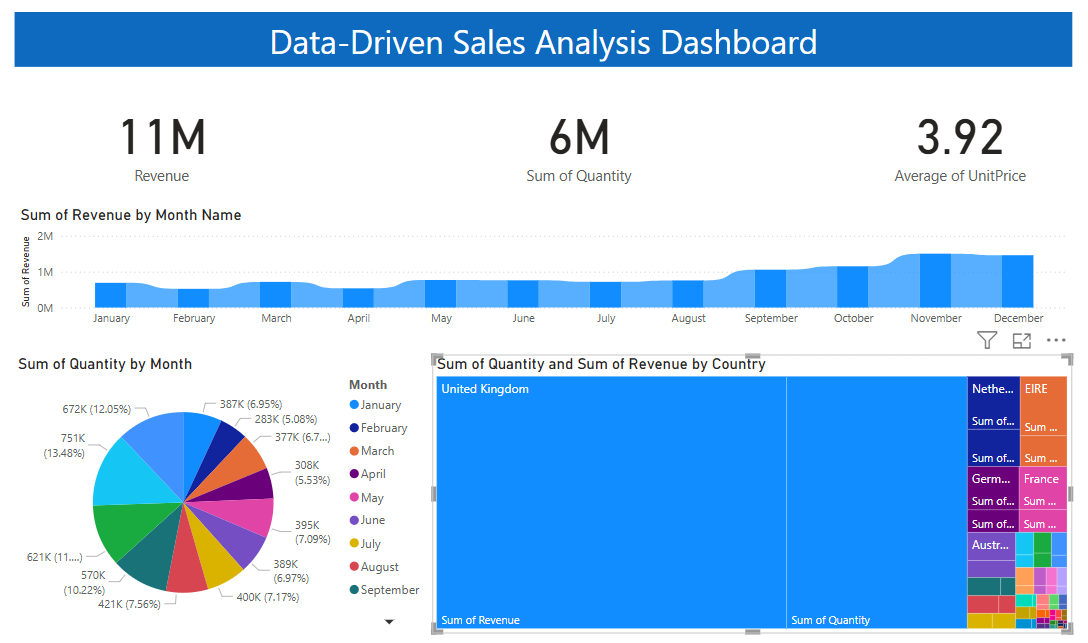

The dashboard page shown, as its layout file describes it:
{"tool":"powerbi","page":{"name":"Page 1","canvas":[1280,720],"ordinal":0},"visuals":[{"type":"shape","box":[59,22,1160.9,60.4],"z":0},{"type":"card","fields":{"Values":["Sum(cleaned_data.Revenue)"]},"box":[59,105.7,322.5,113.9],"z":1000},{"type":"card","fields":{"Values":["Sum(cleaned_data.Quantity)"]},"box":[517.3,105.7,322.5,113.9],"z":2000},{"type":"card","fields":{"Values":["Avg(cleaned_data.UnitPrice)"]},"box":[935.9,105.7,322.5,113.9],"z":3000},{"type":"ribbonChart","fields":{"Category":["cleaned_data.Month Name"],"Y":["Sum(cleaned_data.Revenue)"]},"box":[60,234,1160,142],"z":4000},{"type":"pieChart","fields":{"Category":["cleaned_data.Month Name"],"Y":["Sum(cleaned_data.Quantity)"]},"box":[58,398,460,306],"z":5000},{"type":"treemap","fields":{"Group":["cleaned_data.Country"],"Values":["Sum(cleaned_data.Quantity)","Sum(cleaned_data.Revenue)"]},"box":[518,398,702,306],"z":5001}]}

Visuals, with their boxes in screenshot pixels (x1, y1, x2, y2):
shape: box=[19, 11, 1065, 66]
card - Sum(cleaned_data.Revenue): box=[19, 87, 310, 189]
card - Sum(cleaned_data.Quantity): box=[432, 87, 723, 189]
card - Avg(cleaned_data.UnitPrice): box=[809, 87, 1087, 189]
ribbonChart - cleaned_data.Month Name x Sum(cleaned_data.Revenue): box=[20, 202, 1065, 330]
pieChart - cleaned_data.Month Name x Sum(cleaned_data.Quantity): box=[18, 350, 433, 626]
treemap - cleaned_data.Country x Sum(cleaned_data.Quantity): box=[433, 350, 1065, 626]
